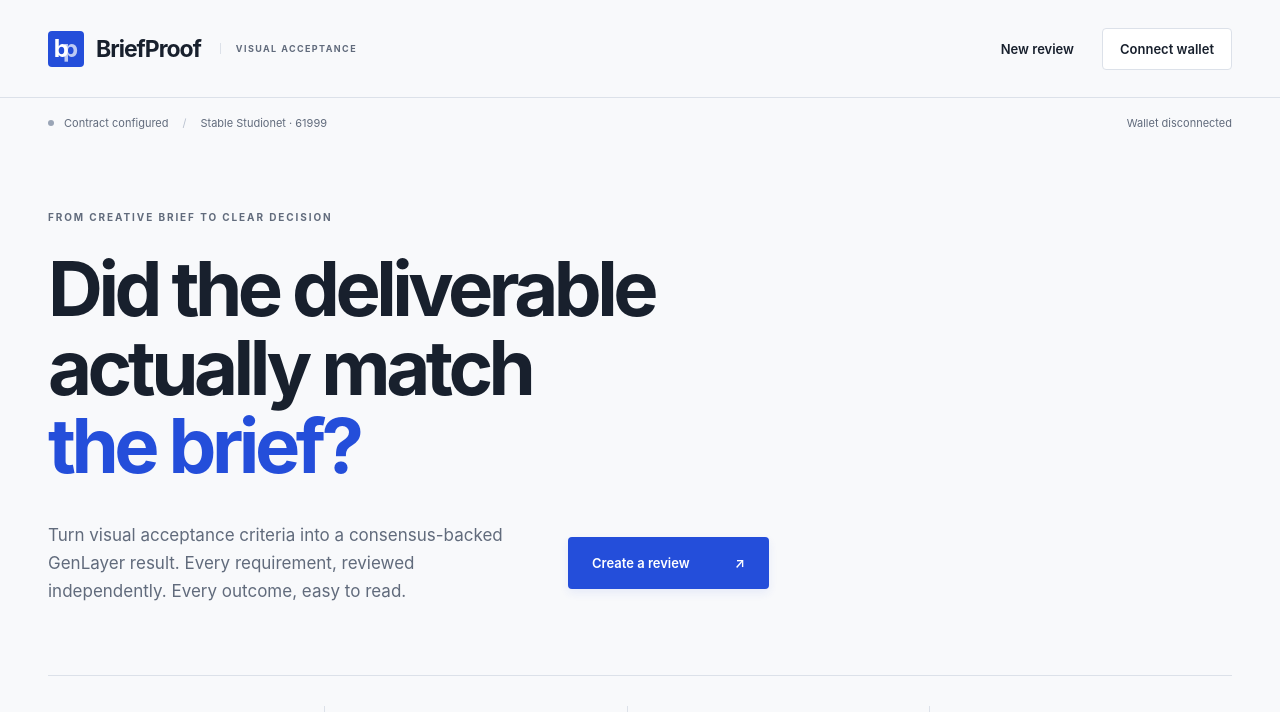
Test: unavailable wallet can surface a useful message
Click the button "Connect wallet" at (1167, 48), box [1102, 28, 1232, 70]
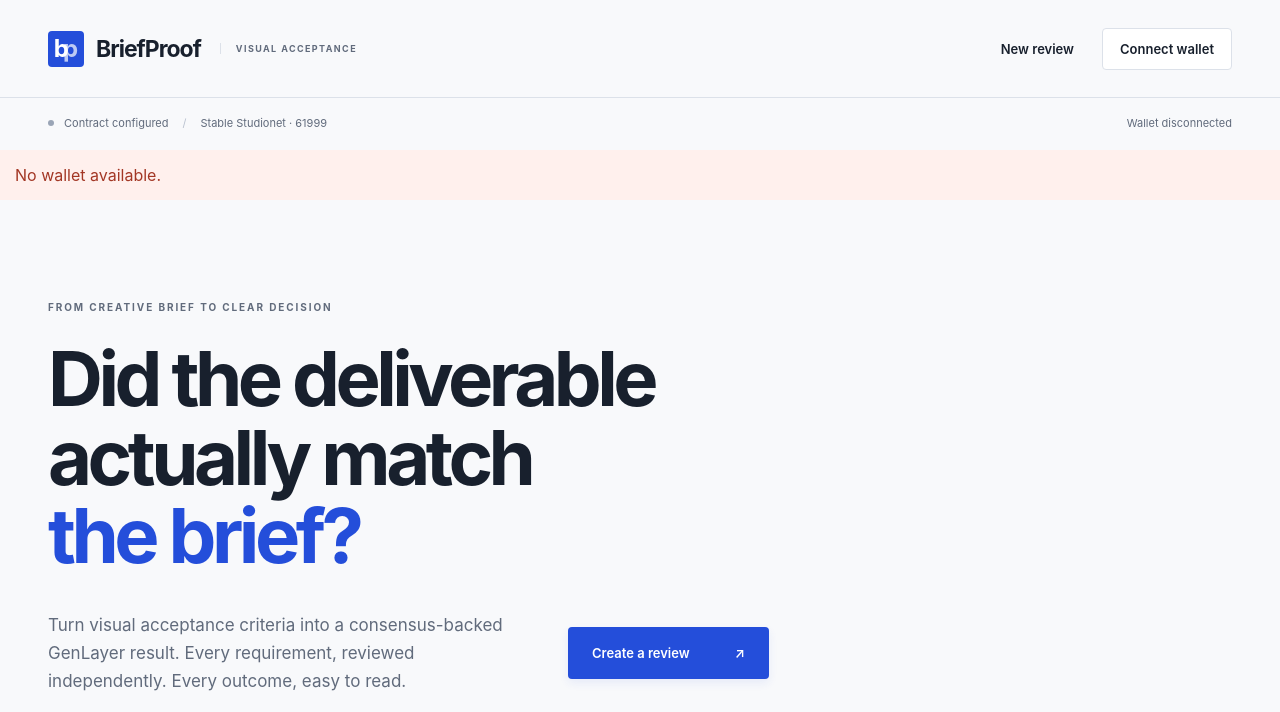
Result: the message reads "No wallet available." at [15, 165, 161, 185]
